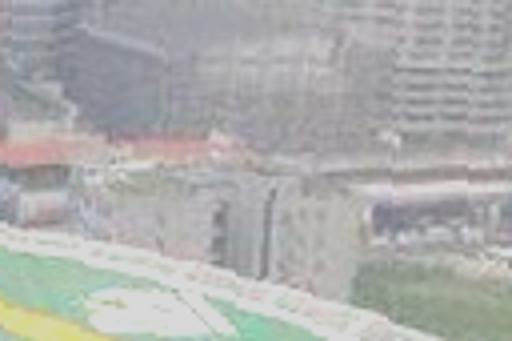Apron: (1, 288, 146, 341)
